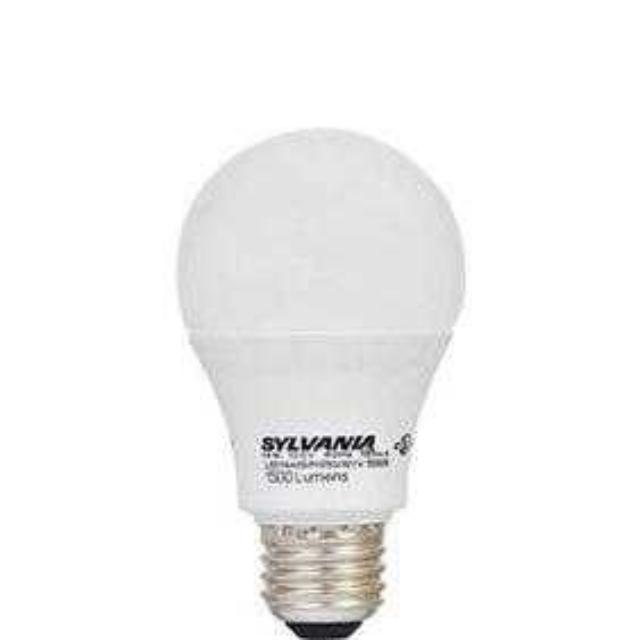light_bulb: (175, 123, 462, 629)
